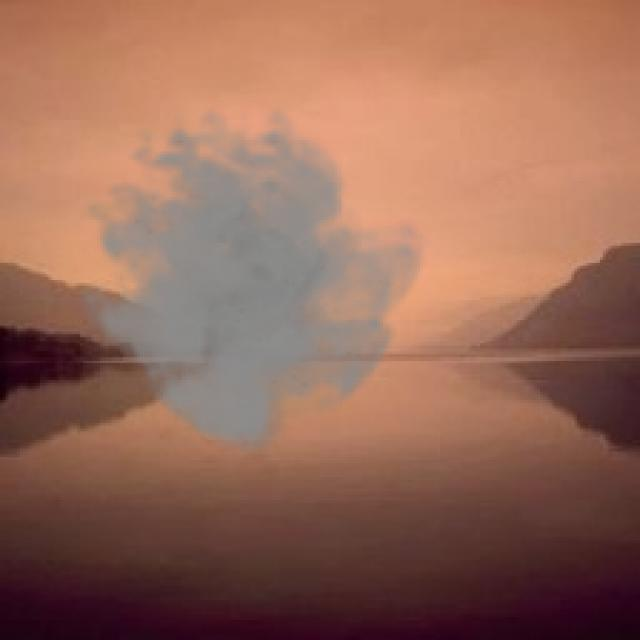smoke: (63, 106, 431, 457)
